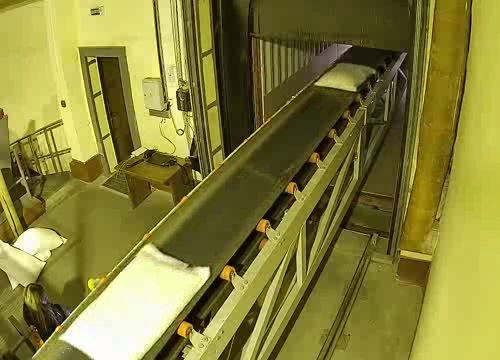bag: (53, 235, 219, 360), (313, 57, 385, 95)
